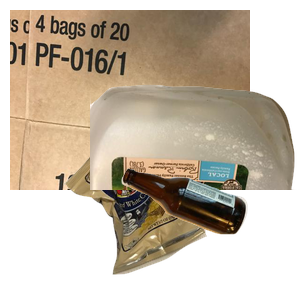cardboard: (10, 10, 250, 190)
glass: (119, 166, 300, 300)
plastic: (90, 82, 300, 262)
trash: (61, 127, 260, 300)
